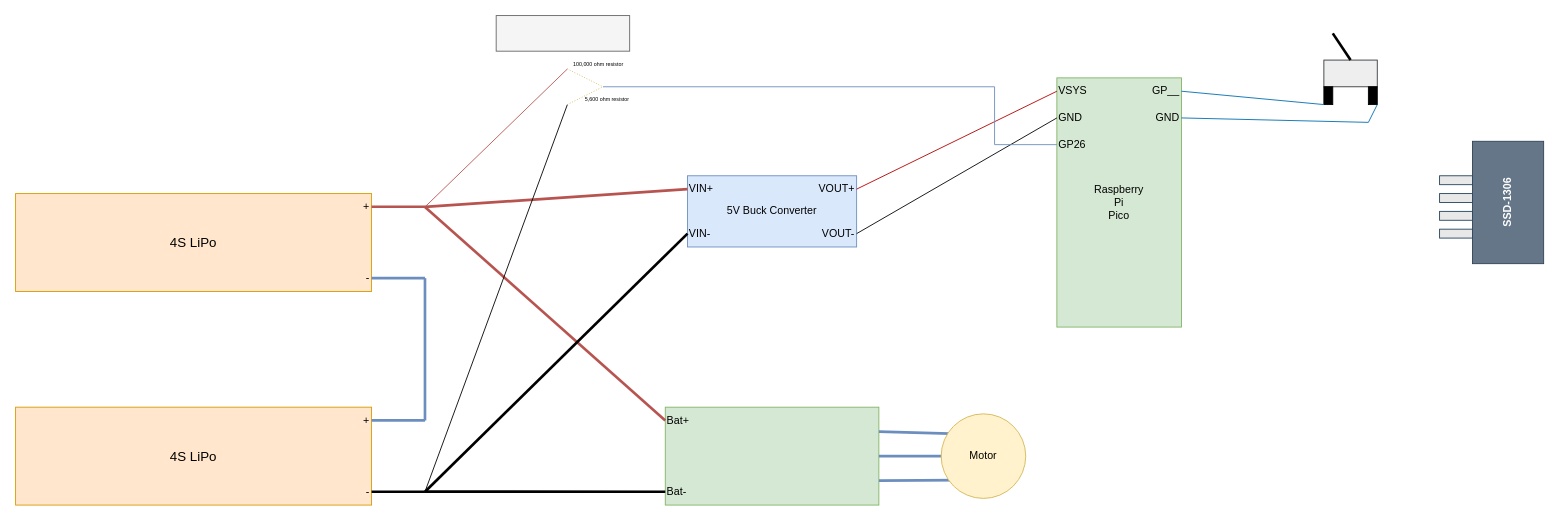
The diagram is 1559 pixels wide and 521 high, and some of its shapes have lost their labels. Each missing label, with the box of its shape:
ESC: (664, 406, 879, 505)
Switch: (1323, 59, 1377, 87)
This voltage divider divides the voltage down to 5.3% of the source: (495, 15, 630, 51)
